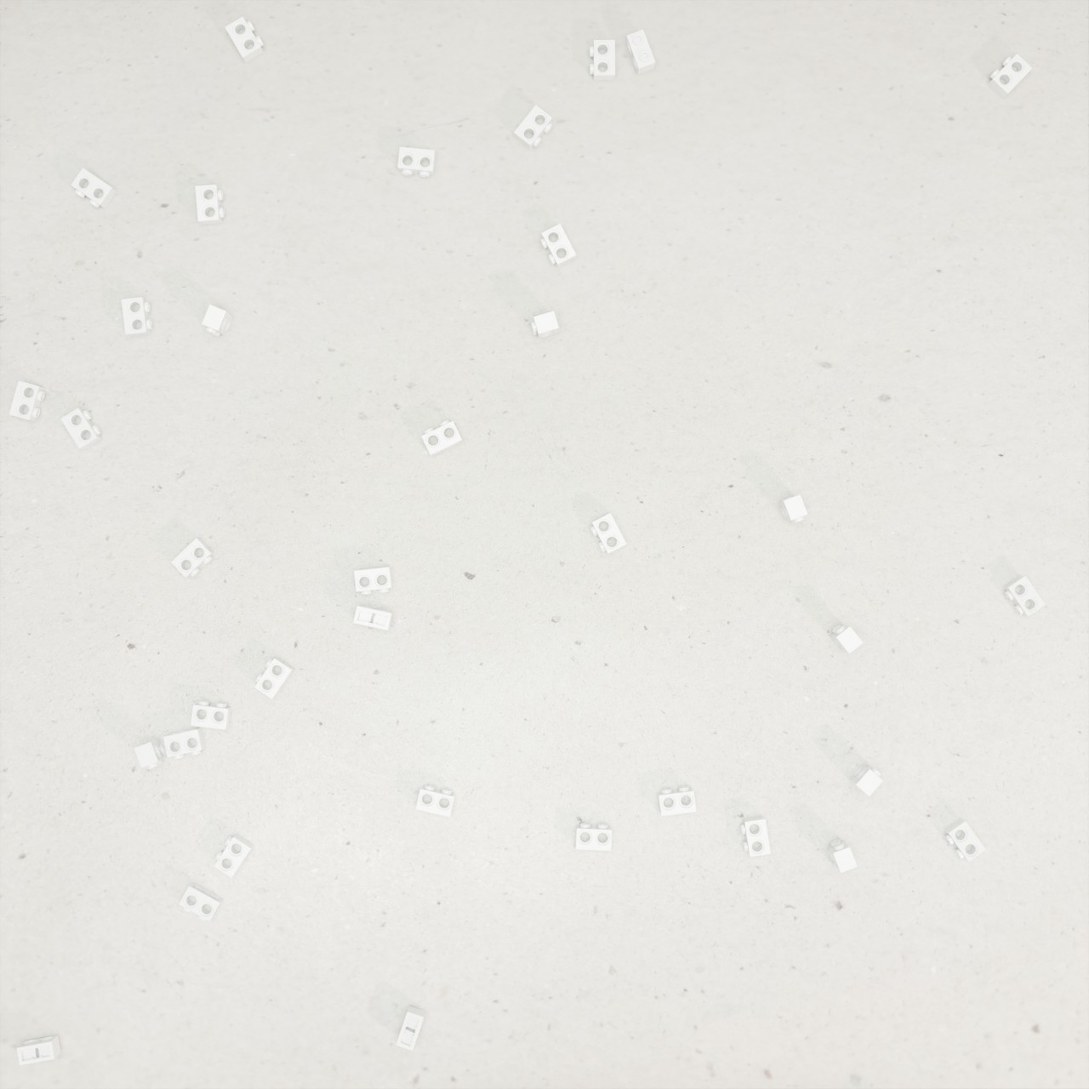lego: (988, 54, 1032, 99), (71, 168, 117, 209), (944, 818, 986, 862), (225, 16, 264, 63), (1003, 575, 1046, 617), (60, 408, 102, 450), (179, 882, 223, 922), (214, 834, 254, 878), (171, 538, 215, 578), (514, 105, 553, 150), (254, 657, 295, 699), (540, 223, 576, 268), (590, 513, 627, 554), (9, 380, 45, 422), (421, 420, 463, 456), (16, 1035, 61, 1066), (625, 29, 655, 75), (396, 1005, 426, 1051), (163, 727, 206, 759), (121, 297, 153, 337), (416, 785, 456, 817), (740, 816, 771, 857), (191, 700, 232, 730), (195, 184, 225, 225), (398, 147, 436, 177), (658, 786, 696, 816), (849, 764, 883, 797), (354, 567, 393, 595), (353, 605, 394, 631), (134, 737, 167, 769), (827, 839, 858, 873), (575, 823, 612, 851), (590, 40, 615, 81), (202, 304, 233, 337), (829, 624, 863, 654), (778, 494, 808, 523), (531, 311, 559, 339)
